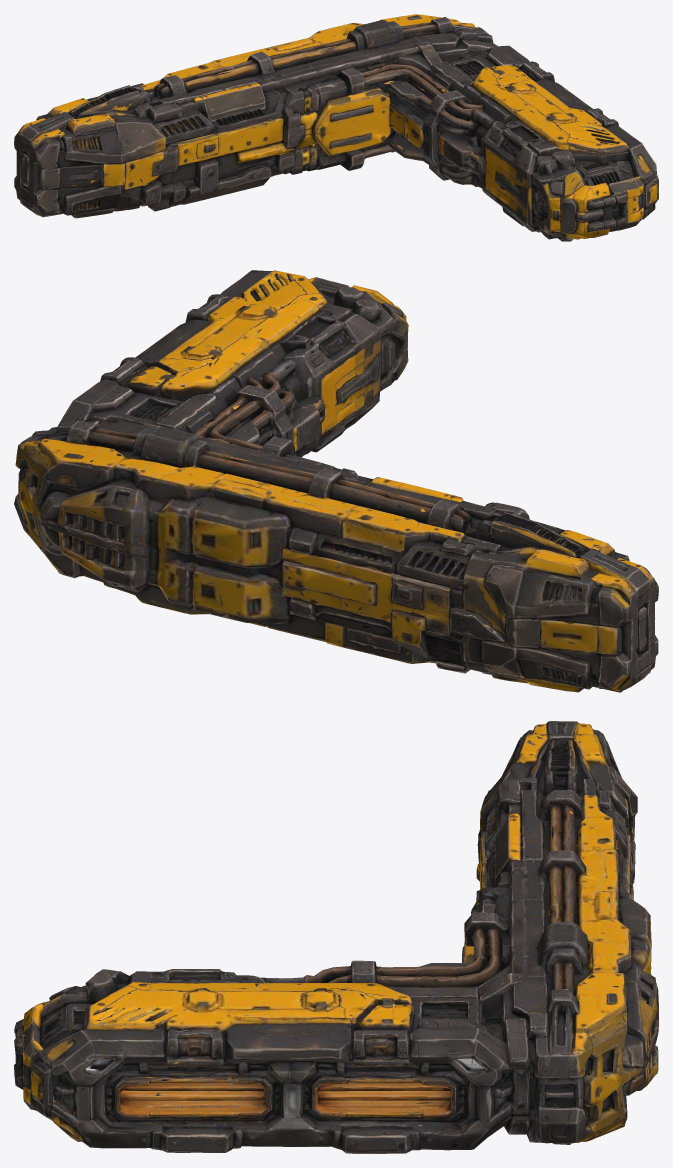
The model's file is rivet.glb.
The picture shows the model from 3 angles, top to bottom: view 1: azimuth 30°, elevation 25°; view 2: azimuth 150°, elevation 25°; view 3: azimuth 270°, elevation 25°; orthographic projection. The views are drawn at different scales.
Bounding box in the file's own units: 1.9 × 0.48 × 1.59.
1 material, 1 textured.
